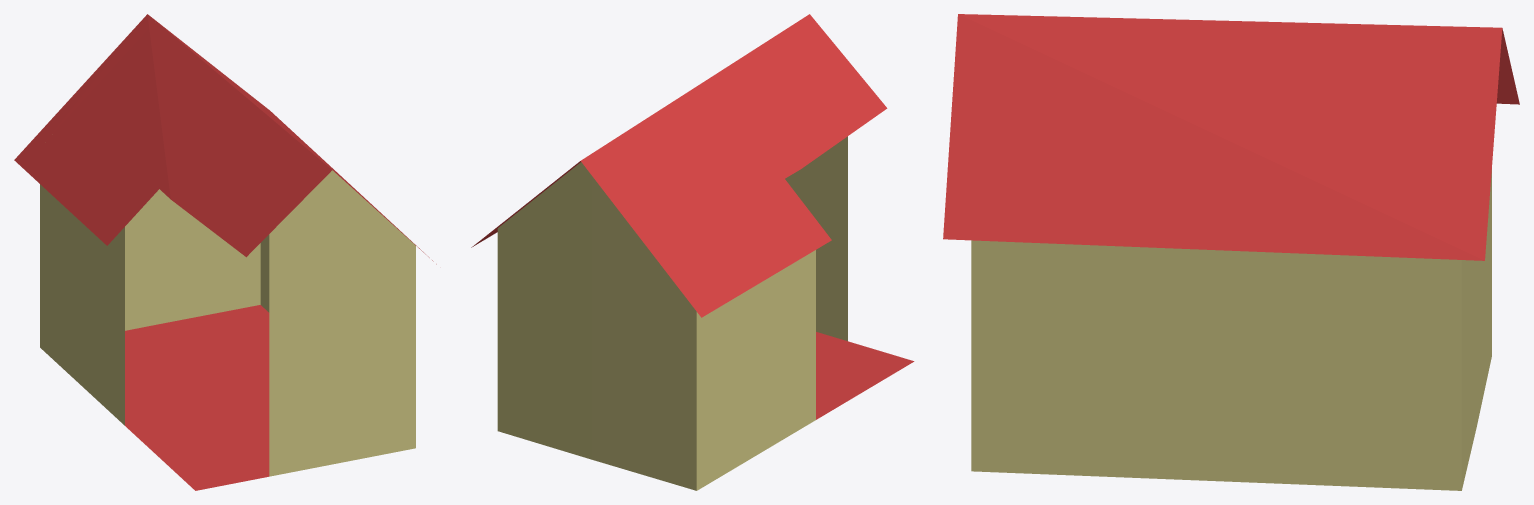
3 renders of one model, left to right at view 1: azimuth 30°, elevation 25°; view 2: azimuth 150°, elevation 25°; view 3: azimuth 270°, elevation 25°, orthographic. The views are drawn at different scales.
Size of the model in its own units: 11.57 by 16.79 by 12.86.
